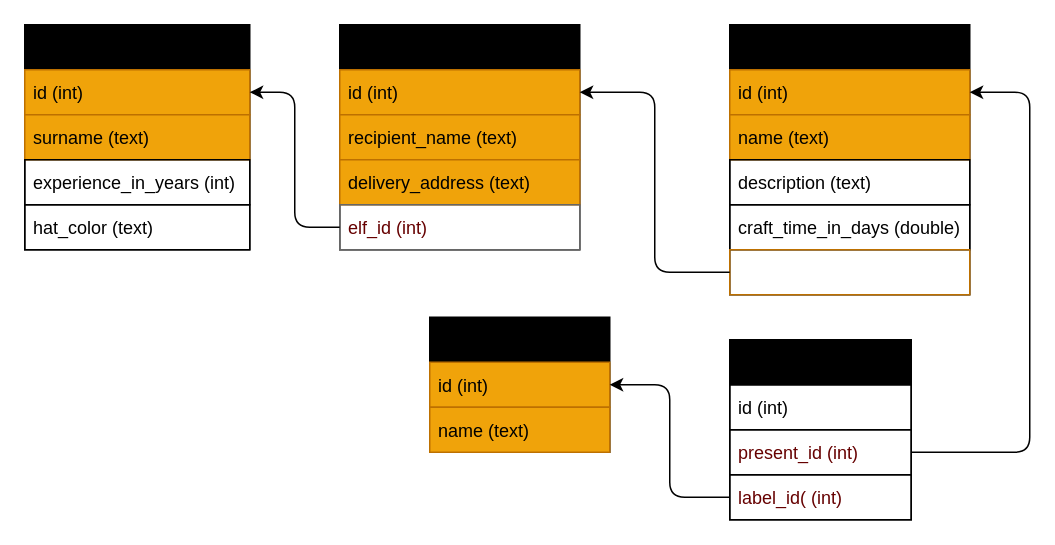
This 1055x545 diagram has some shape labels left out. The box of each missing label's shape, as (x1, y1, x2, y2) in pixels:
elf: (23, 23, 250, 250)
label: (428, 316, 610, 452)
order: (338, 23, 580, 250)
order_id (int): (728, 248, 970, 295)
present: (728, 23, 970, 295)
present_has_label: (728, 338, 911, 520)
